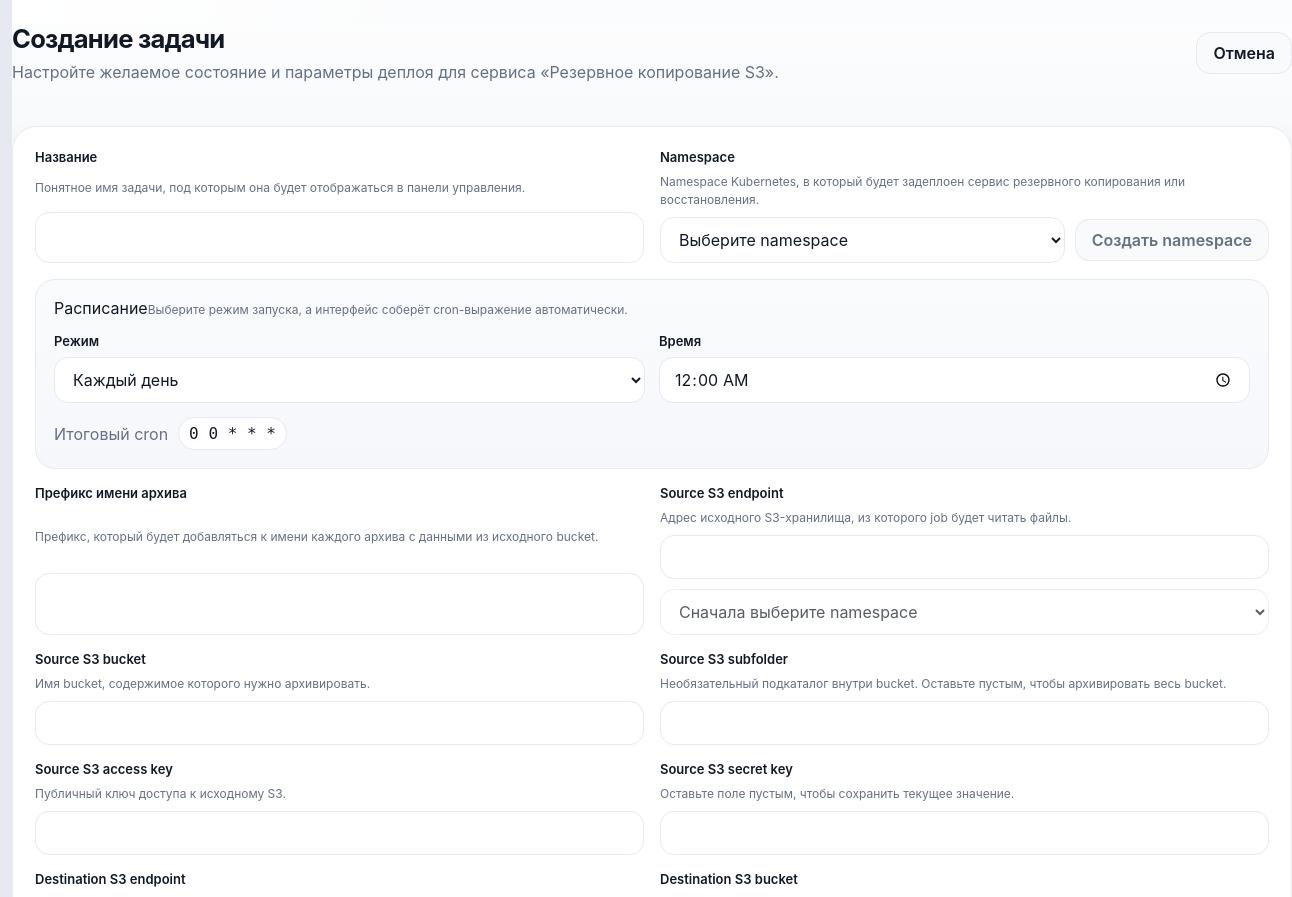
it: fills source s3 endpoint from service discovery
Check: the text "Source S3 endpoint" is shown, box [660, 486, 784, 502]
Select "default" in the 1st dropdown: (862, 240) [660, 217, 1065, 263]
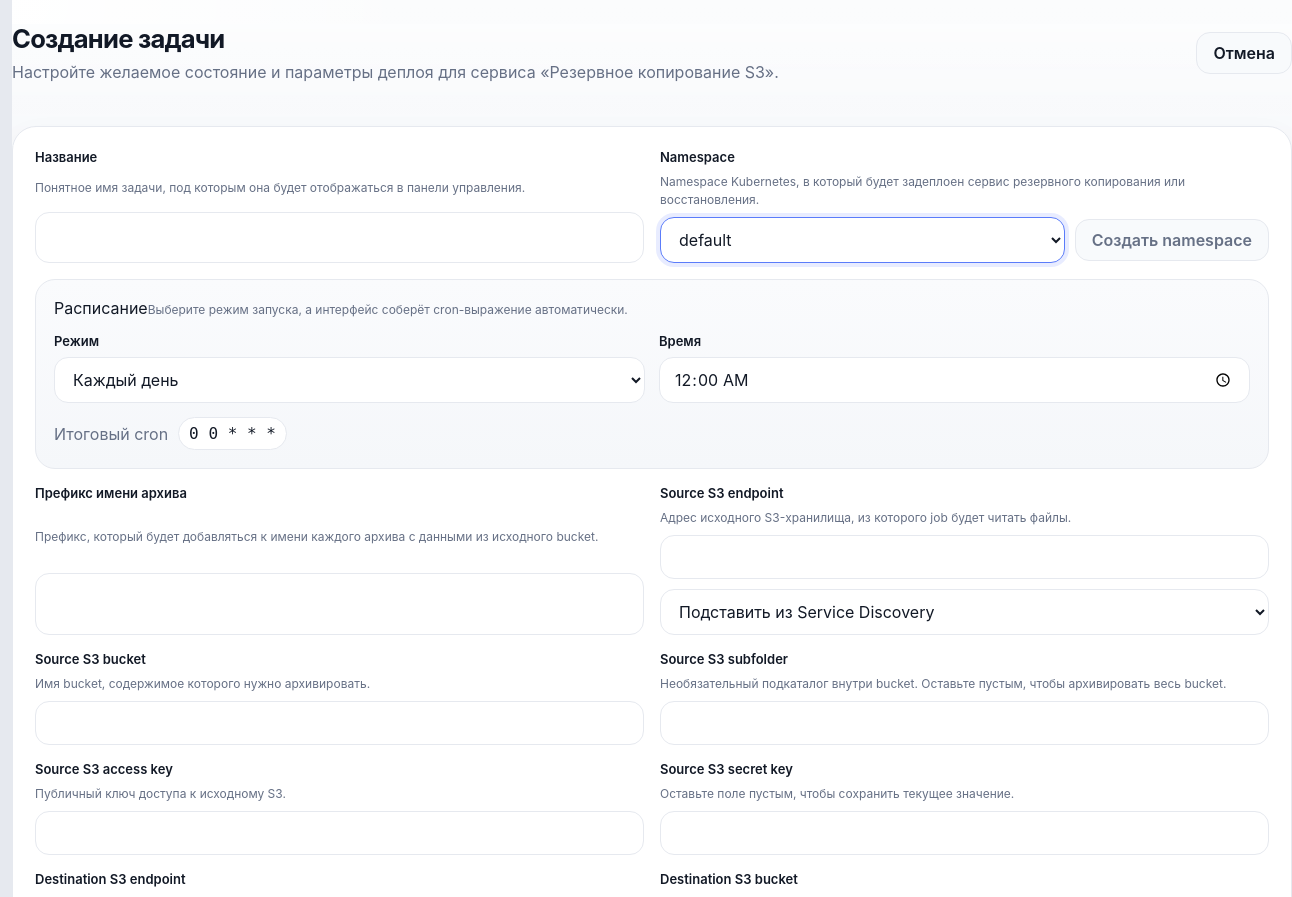
Select "minio:9000 (api)" in the dropdown named "Service Discovery: source S3 endpoint": (964, 612) [660, 590, 1269, 636]
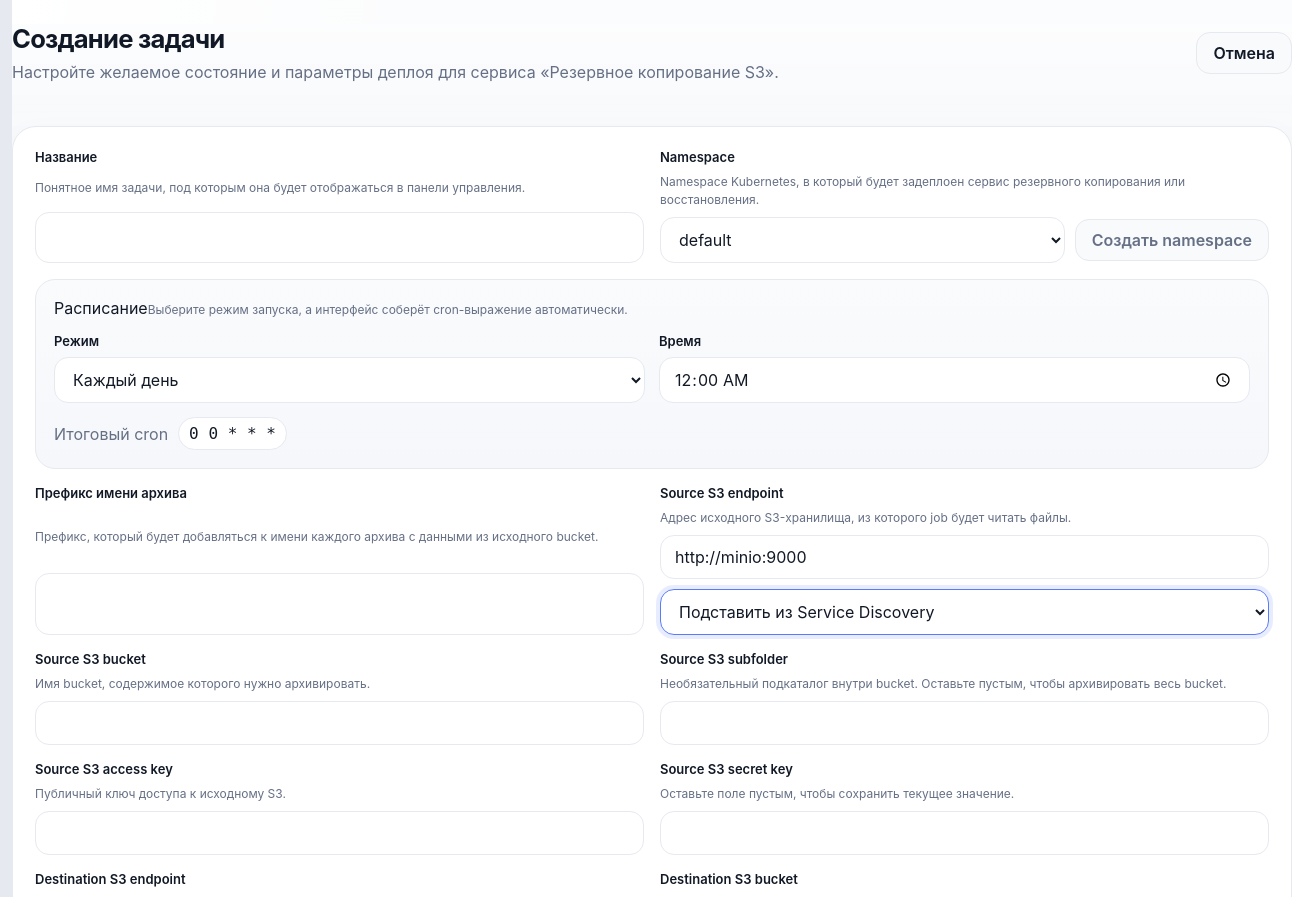
Check: the field showing "http://minio:9000" is shown, box [660, 536, 1269, 580]
